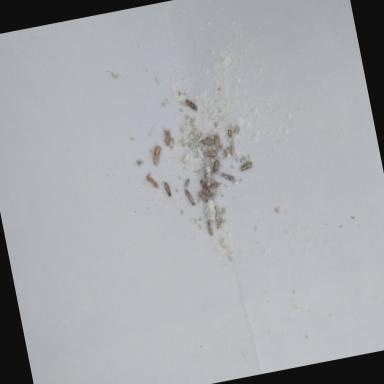pbw: (146, 174, 160, 190), (220, 172, 237, 185), (185, 187, 196, 207), (213, 206, 224, 225), (162, 129, 173, 147), (200, 135, 215, 148), (185, 98, 198, 112), (162, 180, 172, 198), (212, 134, 222, 152), (238, 161, 254, 172), (201, 188, 214, 200), (198, 190, 208, 204), (200, 180, 210, 194), (204, 149, 217, 159), (207, 220, 214, 237), (212, 160, 220, 174), (228, 142, 236, 156), (208, 182, 220, 190)
